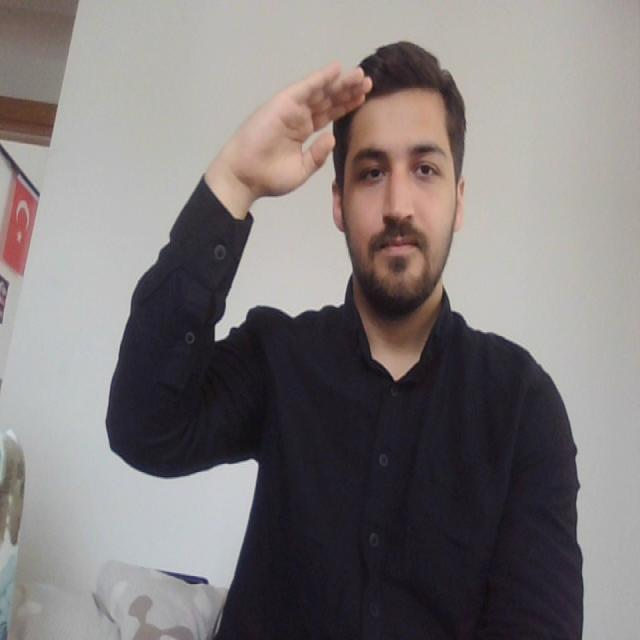Merhaba: (212, 32, 378, 226)
